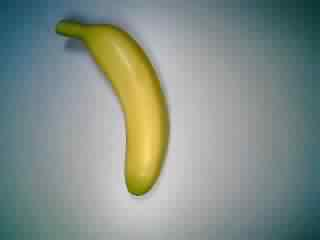banana: (53, 16, 176, 201)
